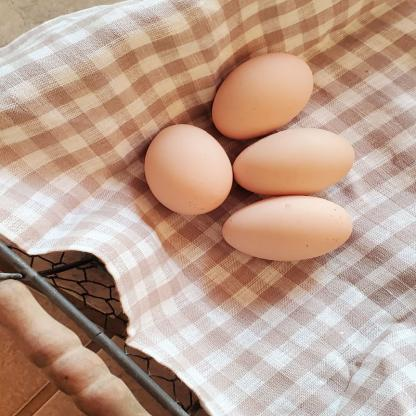egg: (207, 51, 318, 138), (213, 196, 358, 262), (144, 124, 238, 217), (235, 127, 360, 196)
